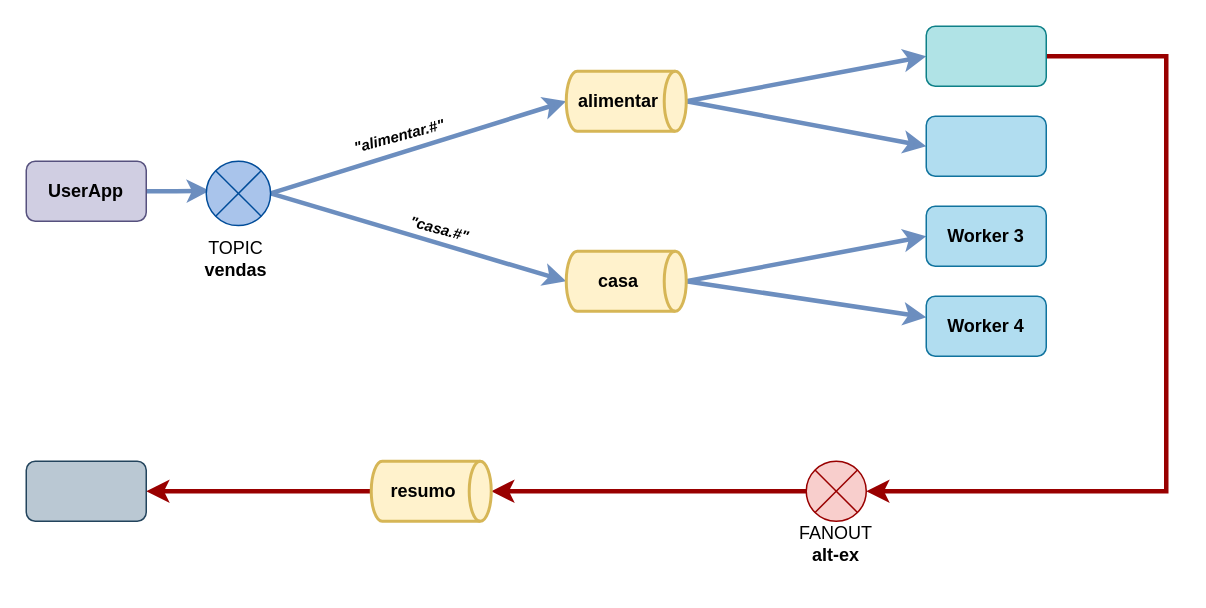
This 1206x608 diagram has some shape labels left out. The shapes that lost their labels are listed below. From the top down, each one's centre as x and y in pixels, then its label:
At (985,55): "Worker 1 leader".
At (985,145): "Worker 2".
At (85,490): "Server".
